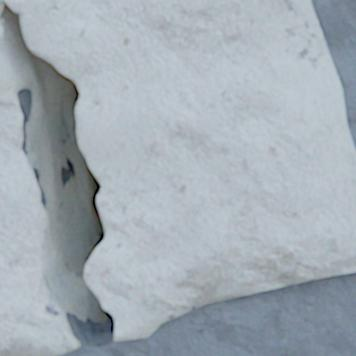brick: (0, 0, 355, 338), (0, 17, 79, 355)
crack: (0, 2, 122, 354)
